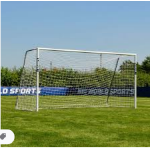goals: (15, 46, 139, 112)
